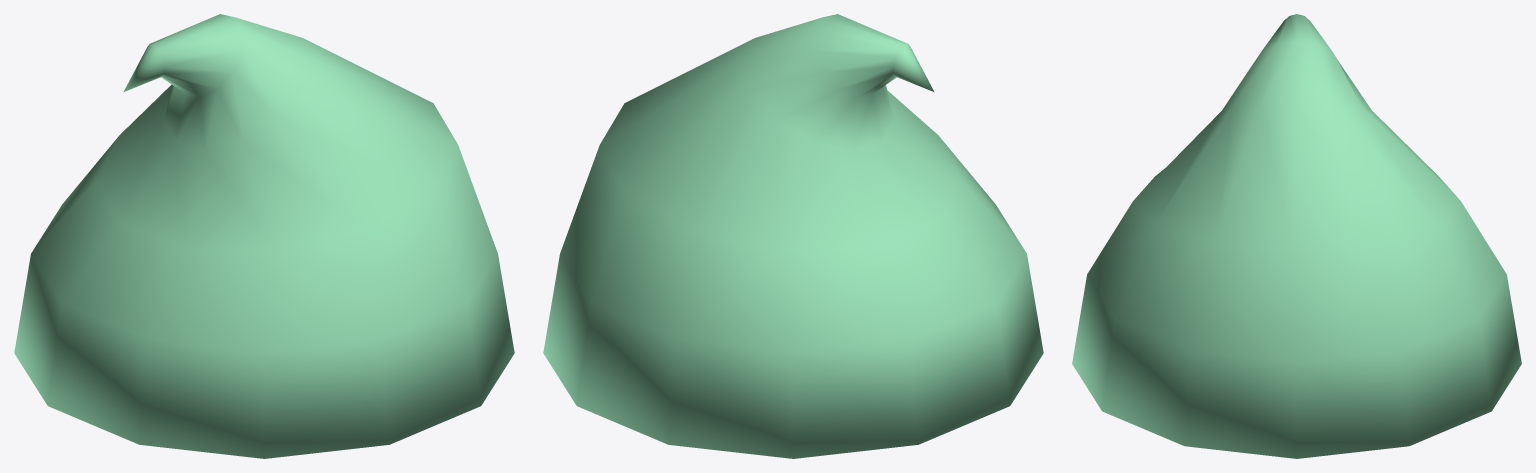
Rendered from Chocolate Chip.obj.
The picture shows the model from 3 angles, left to right: view 1: azimuth 30°, elevation 25°; view 2: azimuth 150°, elevation 25°; view 3: azimuth 270°, elevation 25°; orthographic projection. The views are drawn at different scales.
Parts seen in each view (by area): view 1: Chocolate_Chip; view 2: Chocolate_Chip; view 3: Chocolate_Chip.
Boxes of the visible parts, box(x1,y1,x2,y2) form: Chocolate_Chip: box(14, 14, 514, 458); Chocolate_Chip: box(543, 14, 1043, 458); Chocolate_Chip: box(1072, 14, 1521, 458).
Bounding box in the file's own units: 4.05 × 3.06 × 4.05.
